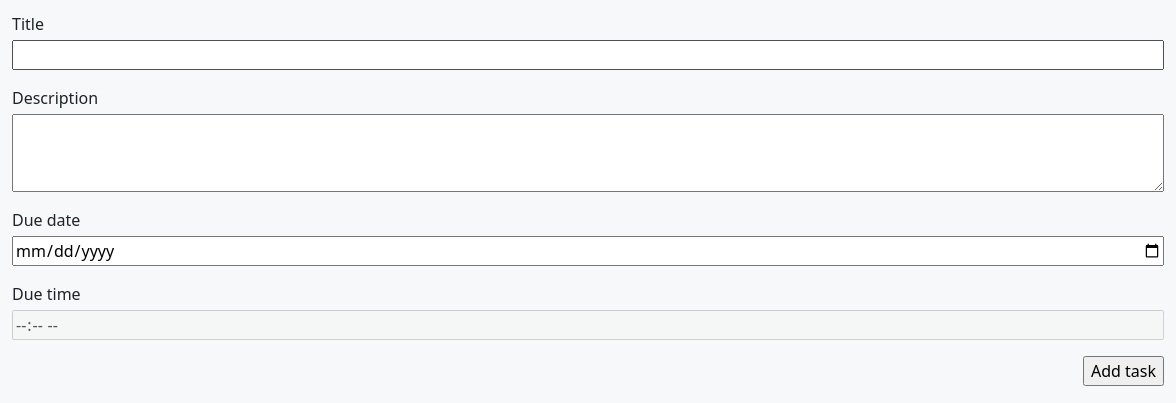
Test case: TodoForm › defaults to 17:00 only when no time was ever chosen
Type "2030-01-15" into the date field labelled "Due date" at (588, 251), box [12,236,1164,266]
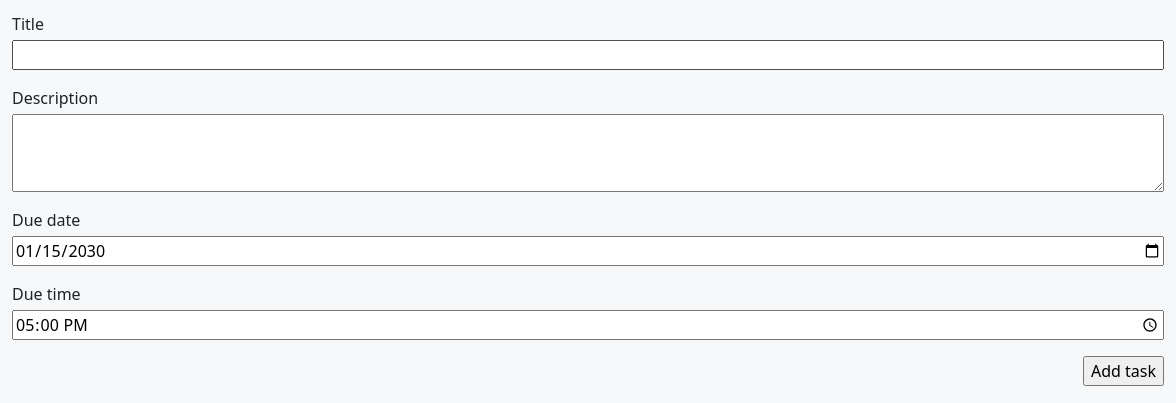
Now the time field labelled "Due time" holds "17:00", box [12,310,1164,340]
